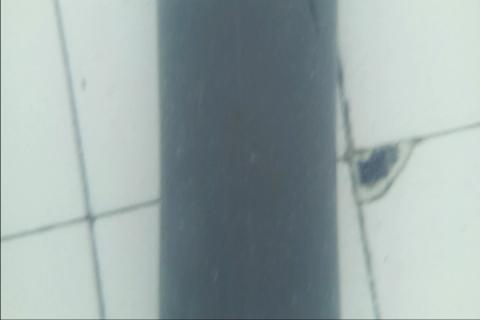keretakan: (306, 0, 319, 28)
